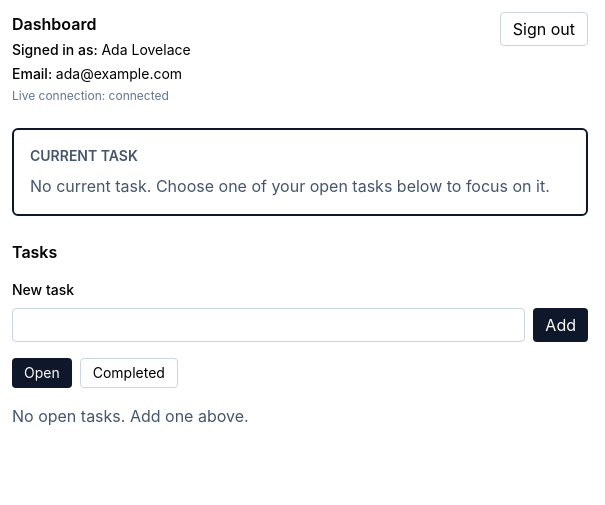
it: dashboard tasks › renames a task, including a completed one
Expected: the text "No open tasks. Add one above." is shown, [12,406,249,426]
Click the button "Completed" at (129, 373), box [80,358,178,388]
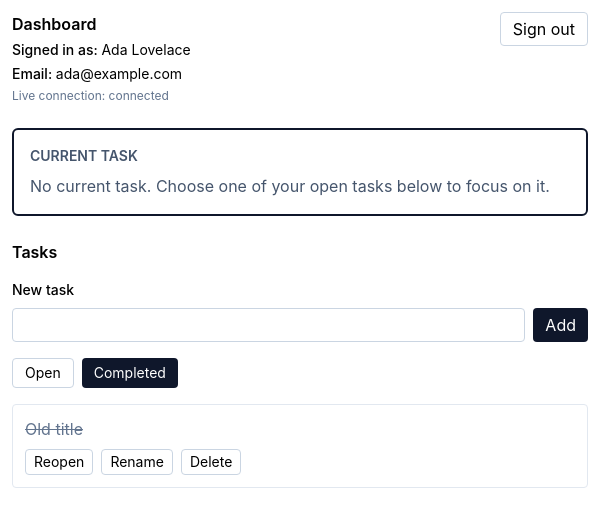
Click the button "Rename" at (137, 462), box [101,449,173,475]
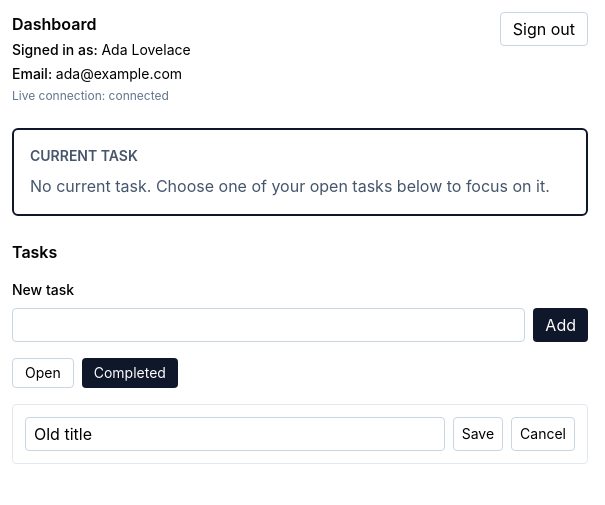
Replace the text in the field named "Task title" with " New title " at (235, 434), box [25,417,445,451]
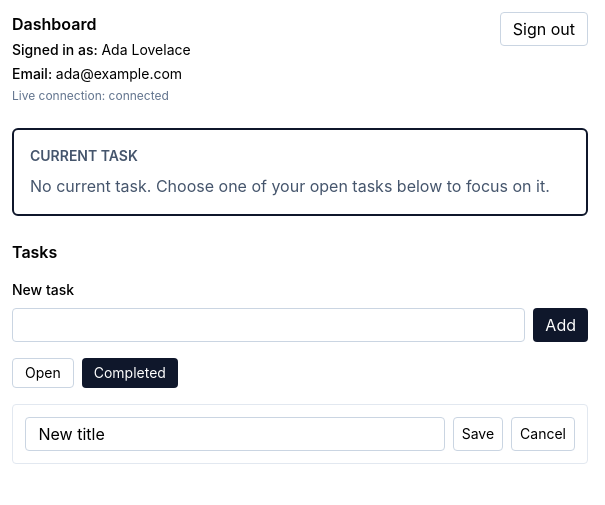
Click the button "Save" at (478, 434), box [453,417,503,451]
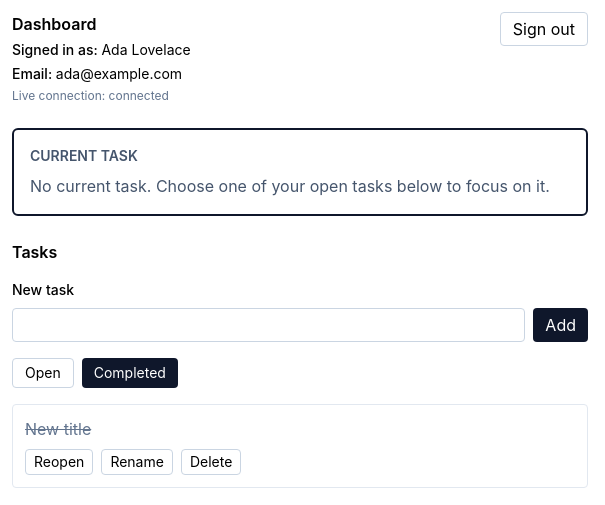
Expected: the list item "New title" is shown, [12,404,588,488]
Expected: the text "New title" is shown, [25,419,91,439]
